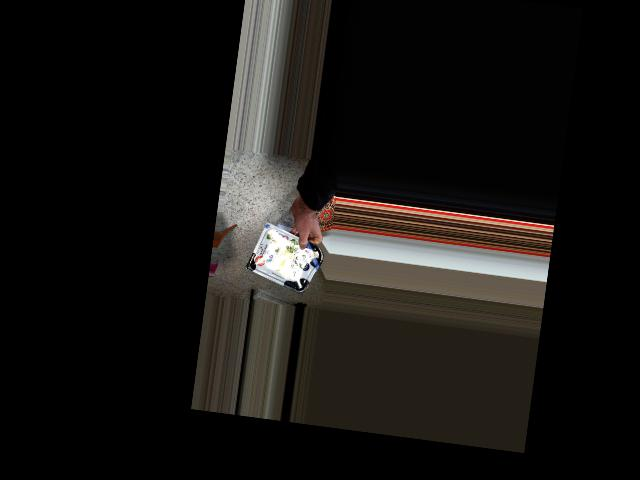cheese: (253, 234, 321, 287)
